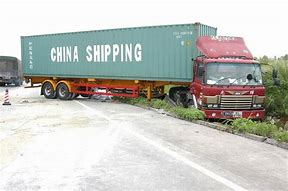bigtruck: (14, 25, 267, 127)
